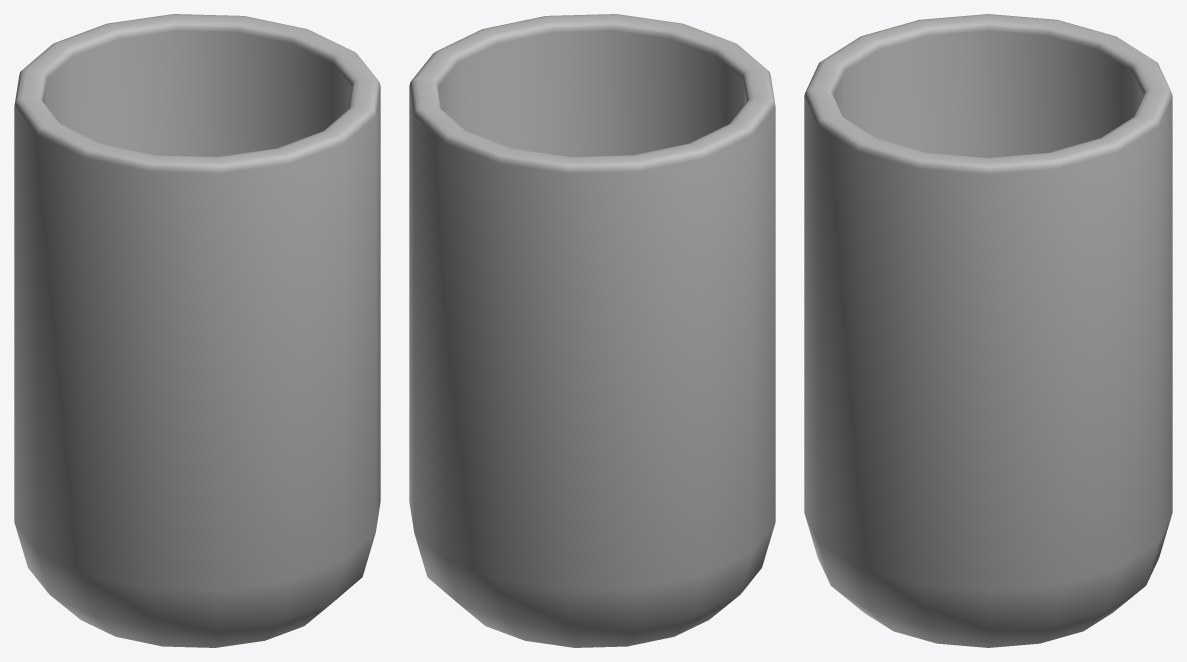
File: Pen Holder03.fbx
The picture shows the model from 3 angles, left to right: view 1: azimuth 30°, elevation 25°; view 2: azimuth 150°, elevation 25°; view 3: azimuth 270°, elevation 25°; orthographic projection.
Visible parts, largest first — view 1: Pen Holder03; view 2: Pen Holder03; view 3: Pen Holder03.
Boxes of the visible parts, x1,y1,x2,y2 form: Pen Holder03: [14, 14, 380, 647]; Pen Holder03: [409, 14, 775, 647]; Pen Holder03: [804, 14, 1172, 647].
Size of the model in its own units: 0.0829 by 0.0829 by 0.1245.
